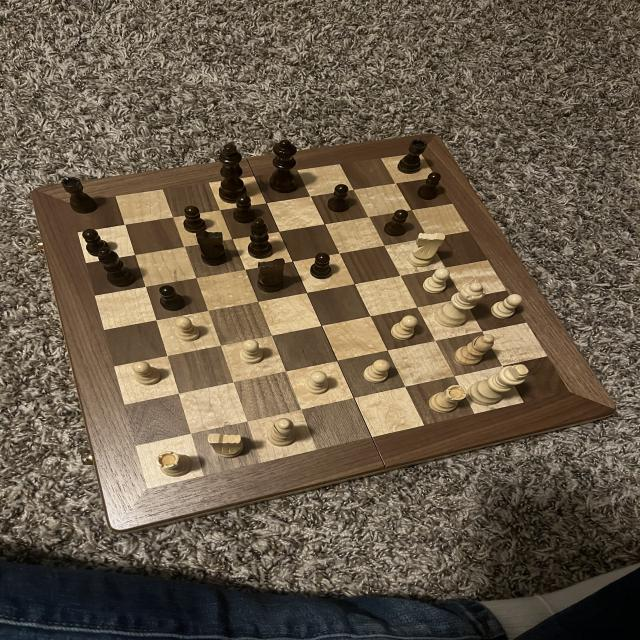bishop: (97, 248, 138, 288), (244, 218, 277, 262)
black-bishop: (215, 141, 248, 207)
black-king: (196, 226, 231, 268), (253, 256, 290, 295)
black-knight: (81, 226, 112, 258), (156, 284, 188, 313), (181, 202, 209, 235), (307, 250, 337, 280), (323, 183, 352, 214), (416, 171, 445, 201), (382, 208, 410, 238), (231, 195, 256, 224)
black-pawn: (267, 138, 301, 197)
black-queen: (60, 177, 101, 216), (394, 139, 430, 176)
black-rook: (451, 332, 497, 368), (264, 416, 298, 450)
white-bishop: (466, 362, 532, 407)
white-king: (404, 230, 448, 270), (204, 431, 248, 461)
white-knight: (488, 291, 528, 321), (419, 266, 456, 296), (389, 314, 422, 345), (300, 368, 334, 398), (130, 357, 165, 386), (170, 314, 203, 344), (360, 358, 395, 386), (236, 338, 266, 368)
white-pawn: (432, 280, 488, 331)
white-queen: (427, 382, 469, 415), (153, 448, 194, 481)
